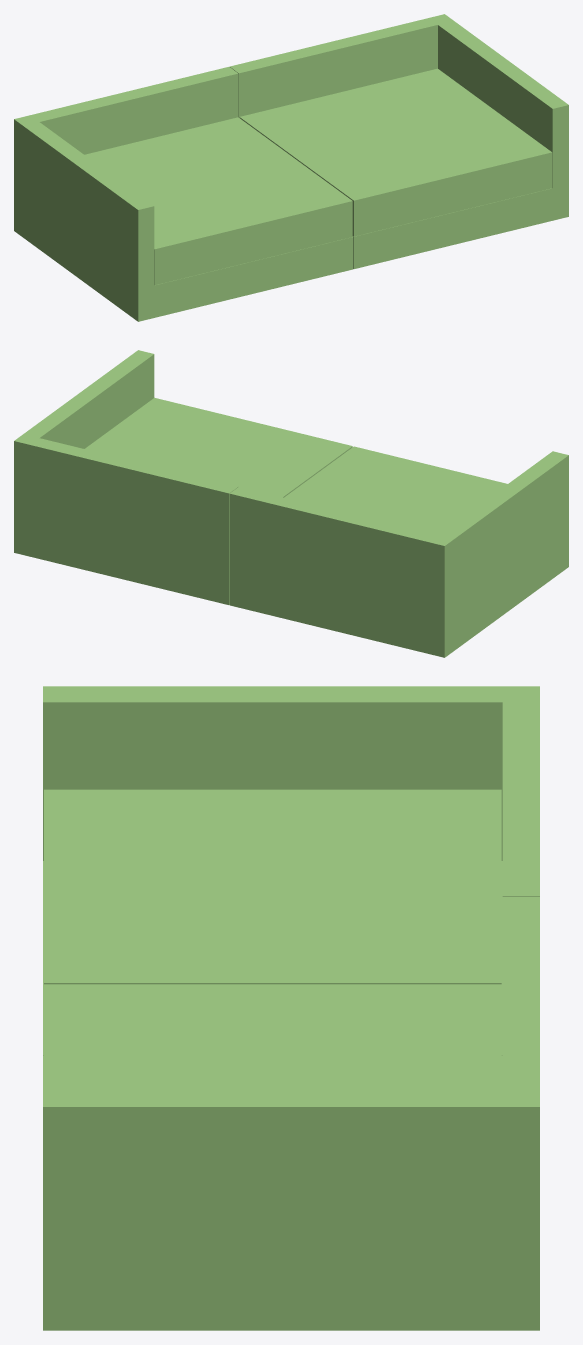
Rendered from sofa1.glb.
The picture shows the model from 3 angles, top to bottom: view 1: azimuth 30°, elevation 25°; view 2: azimuth 150°, elevation 25°; view 3: azimuth 270°, elevation 25°; orthographic projection. The views are drawn at different scales.
Parts seen in each view (by area): view 1: Body (×2); view 2: Body (×2); view 3: Body (×2).
Part boxes in pixels (<box>): Body (×2): <box>14,14,568,321</box>; Body (×2): <box>14,350,568,657</box>; Body (×2): <box>43,686,539,1330</box>.
Size of the model in its own units: 5.32 by 1.32 by 2.66.
